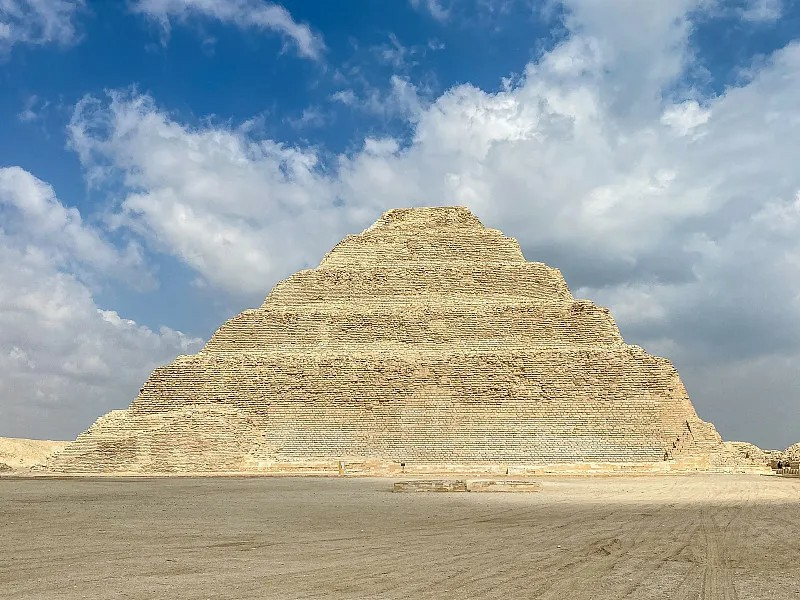Pyramid: (28, 208, 724, 471)
